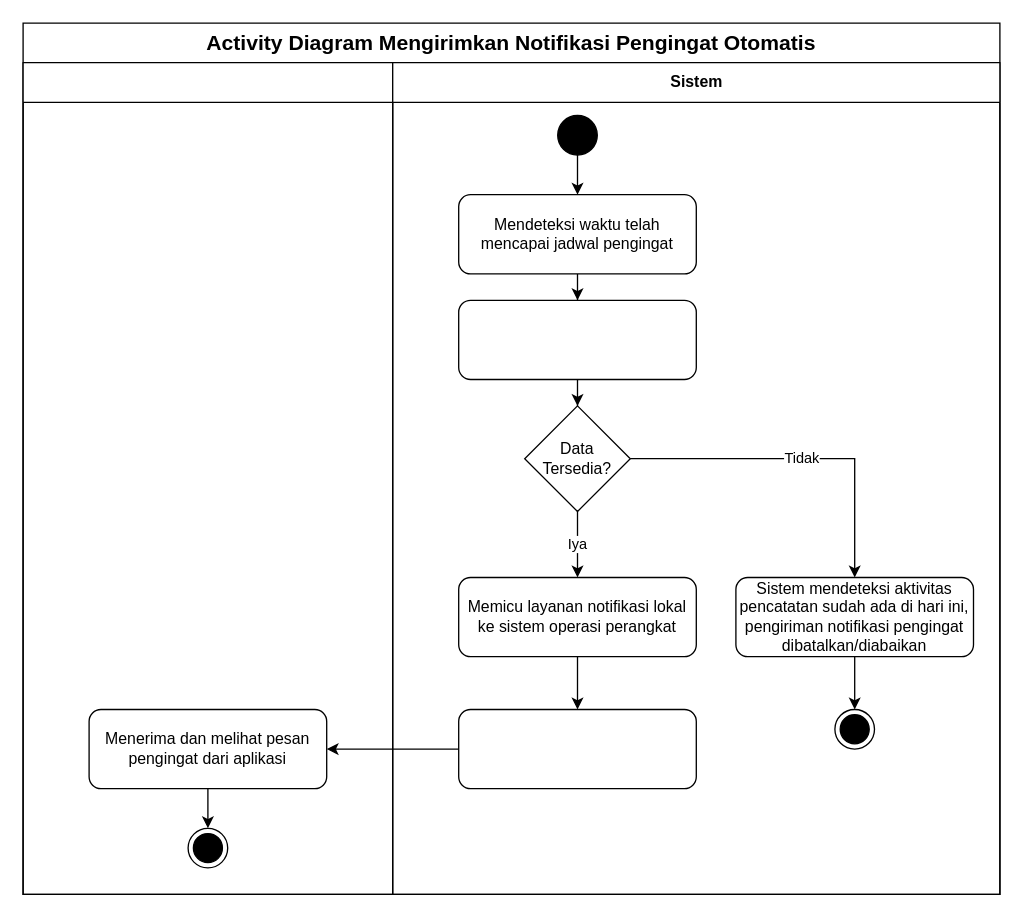
Some shapes in this 1023 by 917 pixel diagram are drawn without their labels. Each missing label, with the box of its shape:
Masyarakat: (22, 61, 393, 894)
Memverifikasi secara lokal apakah belum ada pencatatan harian hari ini: (457, 299, 696, 380)
Menampilkan pesan pengingat di layar ponsel: (457, 708, 696, 789)
